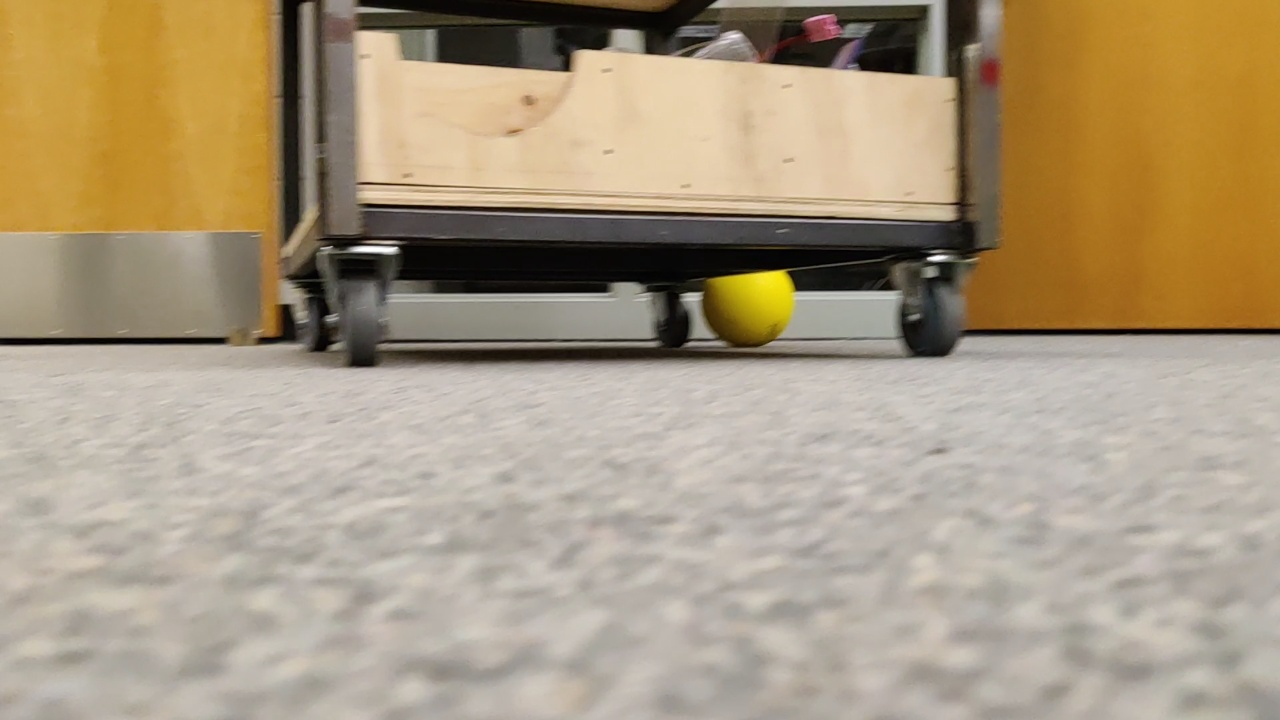Ball: (698, 267, 796, 344)
